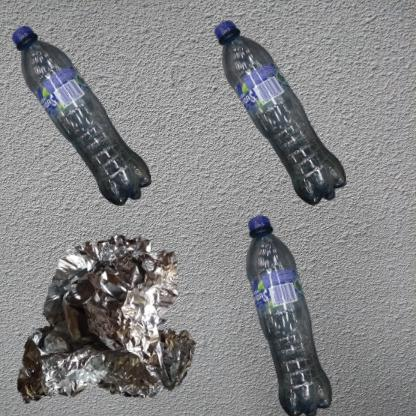aluminio: (10, 213, 230, 416)
botella: (10, 10, 164, 233), (213, 213, 375, 416), (213, 10, 354, 223)
